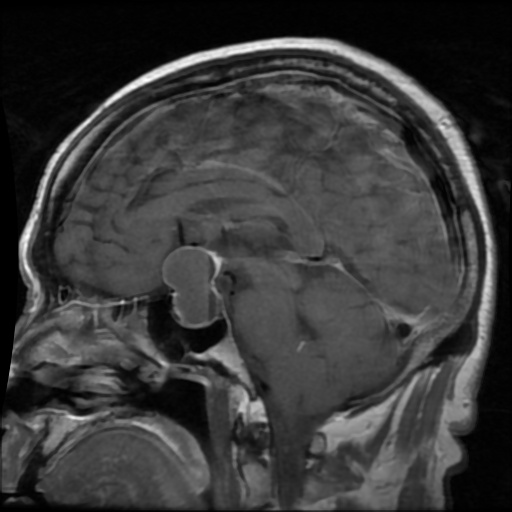pituitary: (161, 244, 222, 326)
